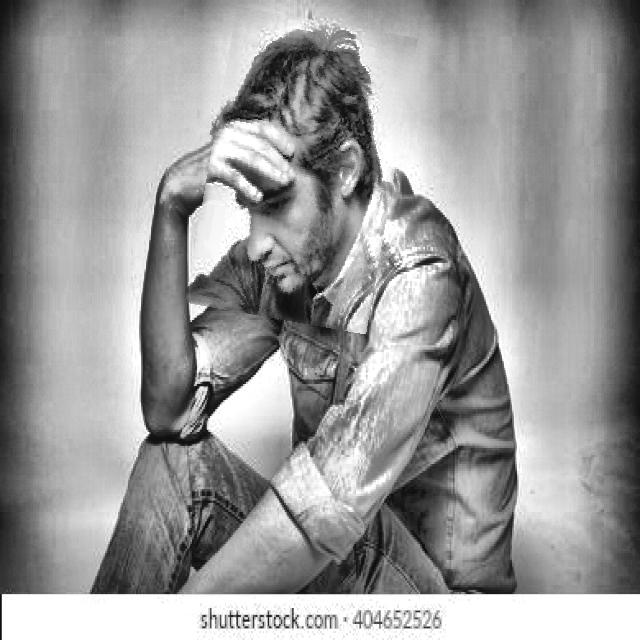sad: (197, 13, 406, 328)
